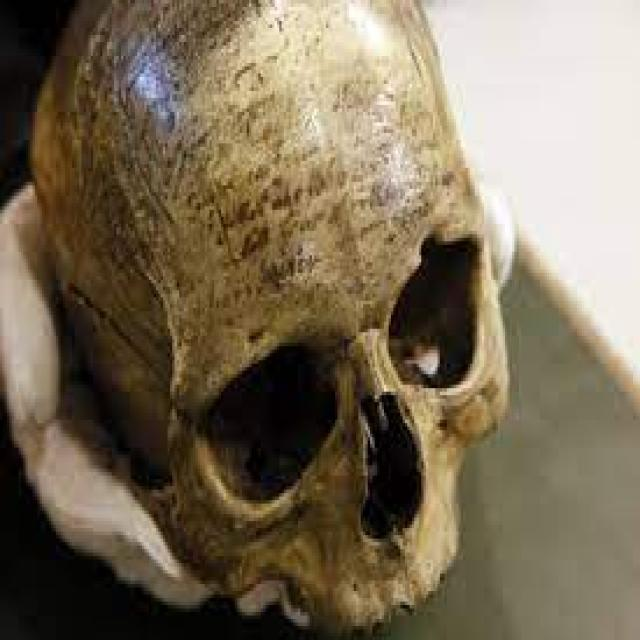skull: (20, 0, 515, 640)
